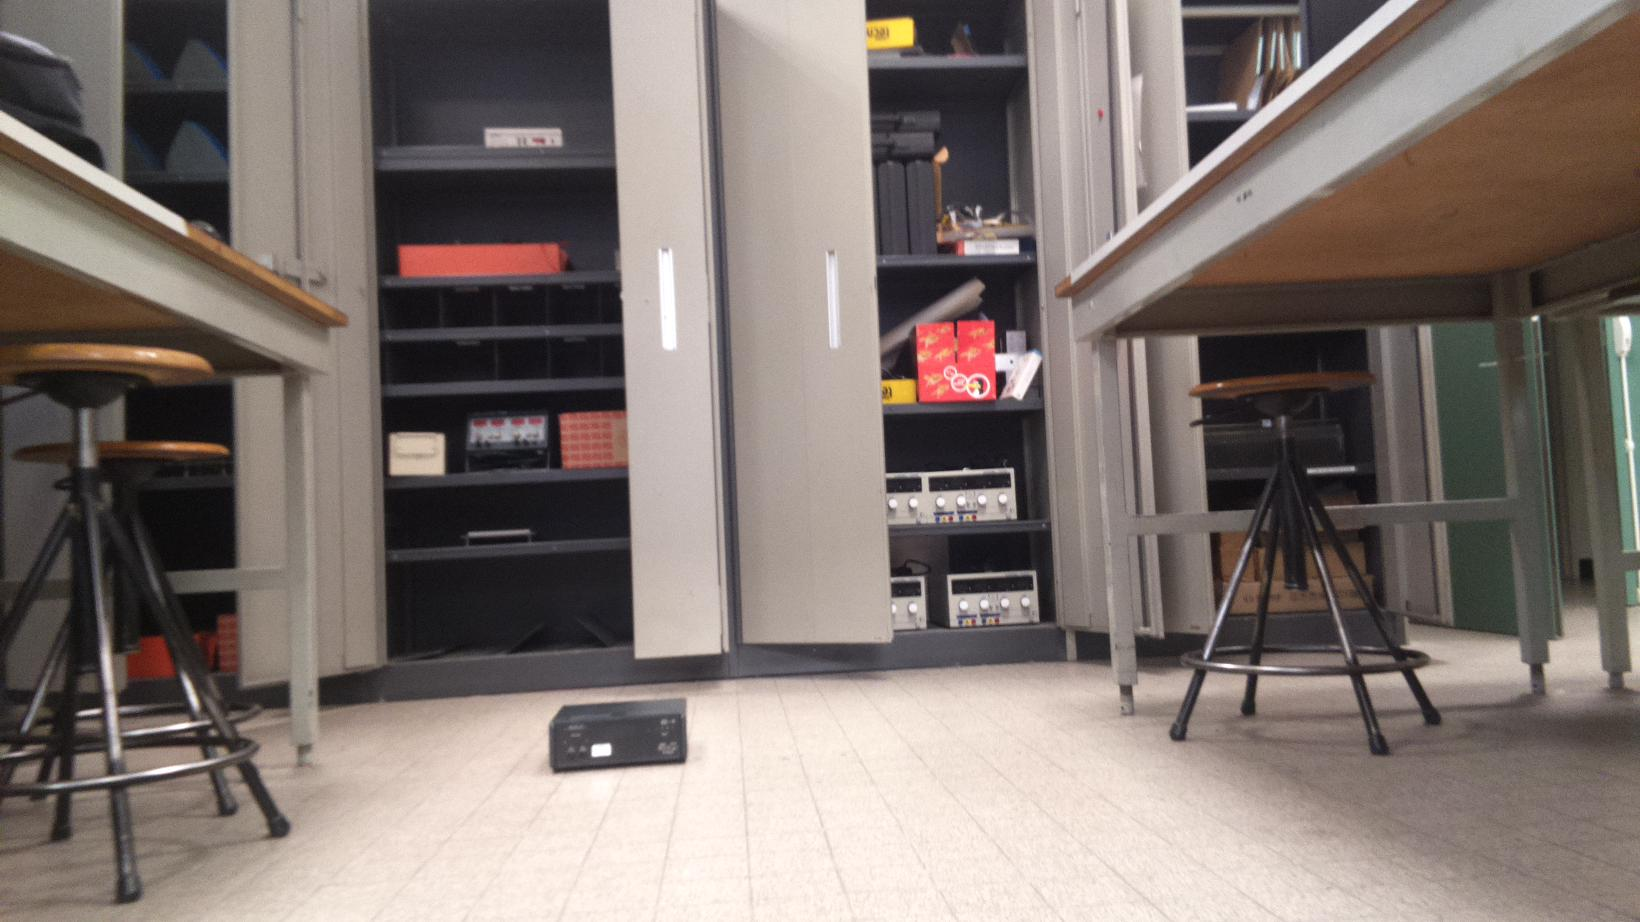medium: (551, 701, 687, 766)
